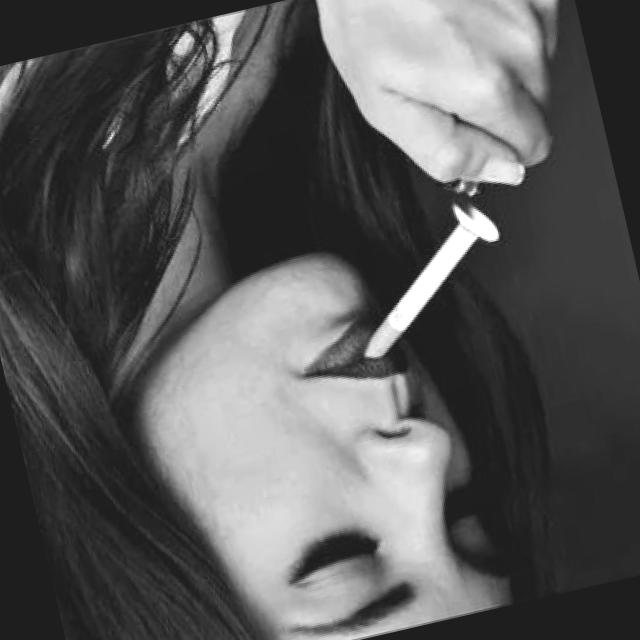smoke: (338, 206, 510, 364)
